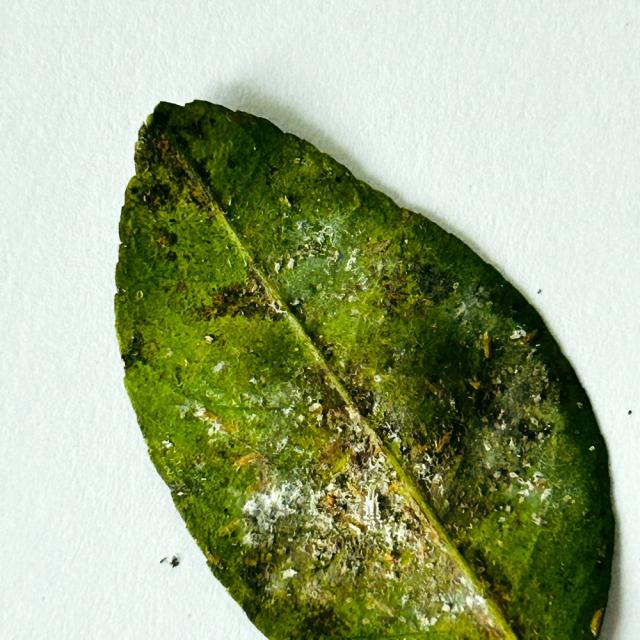Bacterial_Blight: (155, 160, 196, 196)
